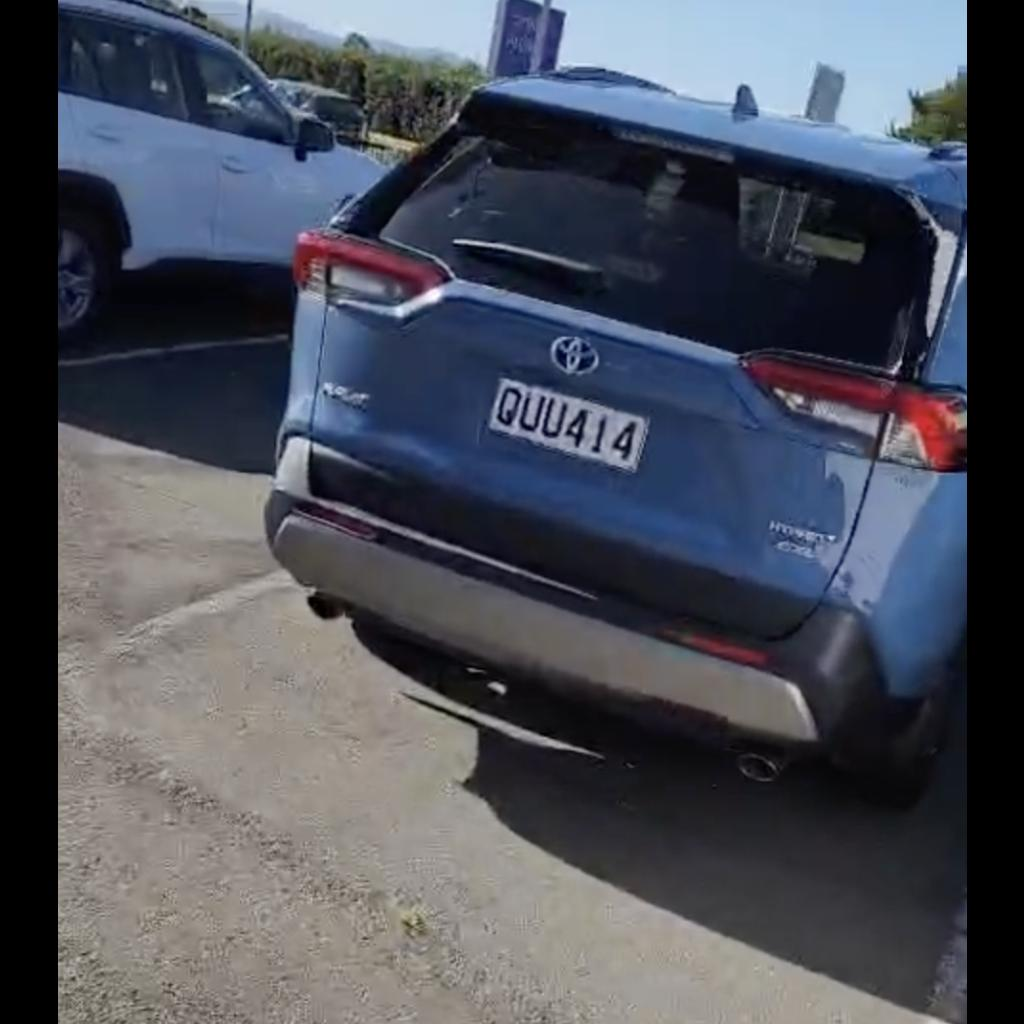Number-Plates: (459, 362, 676, 491)
